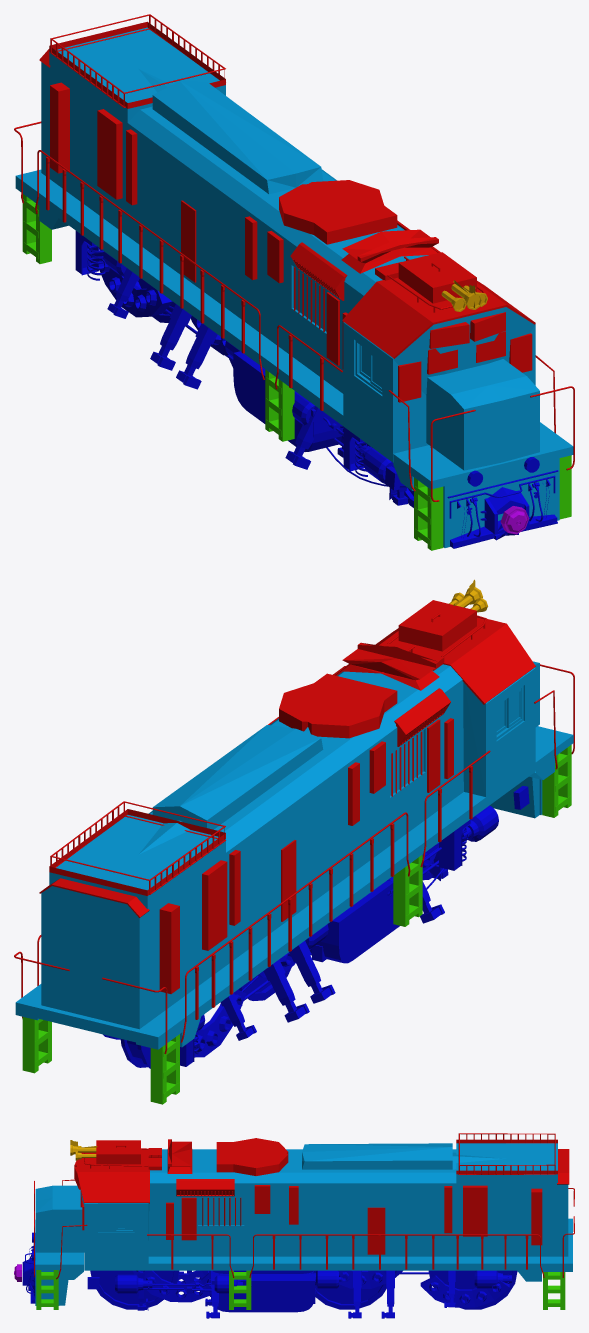
File: TrainMM.fbx
3 views of the same model, one above another, from view 1: azimuth 30°, elevation 25°; view 2: azimuth 150°, elevation 25°; view 3: azimuth 270°, elevation 25° (orthographic). The views are drawn at different scales.
Visible parts, largest first — view 1: 로우폴리M; view 2: 로우폴리M; view 3: 로우폴리M.
Part boxes in pixels (x1,y1,x2,y2): 로우폴리M: (14, 14, 574, 550); 로우폴리M: (14, 579, 574, 1104); 로우폴리M: (14, 1133, 574, 1318).
Bounding box in the file's own units: 57.31 × 93.23 × 285.
